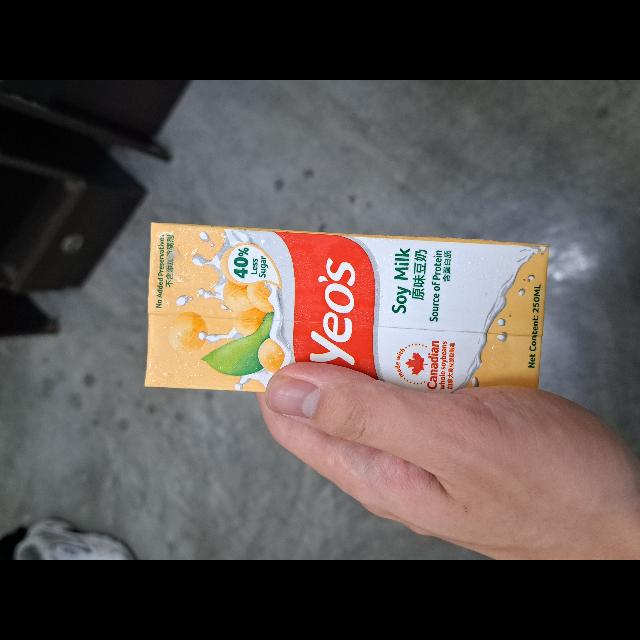caixinha: (146, 221, 550, 393)
